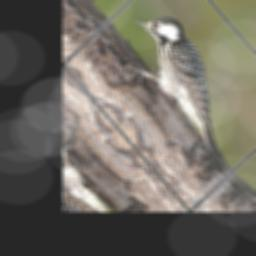Woodpecker: (102, 0, 256, 180)
